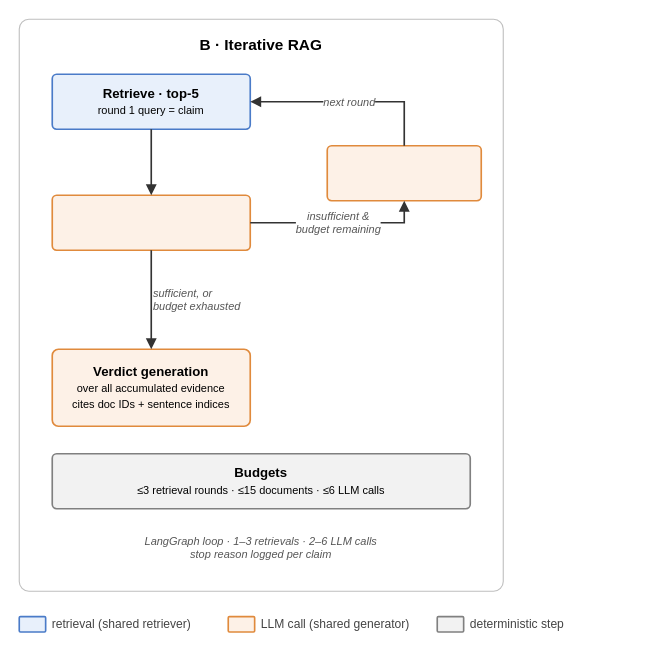
The diagram is 658 pixels wide and 655 high, and some of its shapes have lost their labels. The shapes that lost their labels are listed below. From the top down, each one's centre as x and y in pixels, then its label:
At point (404, 172): "Rewrite query LLM targets the gap".
At point (151, 222): "Assess sufficiency LLM: is the evidence enough?".
